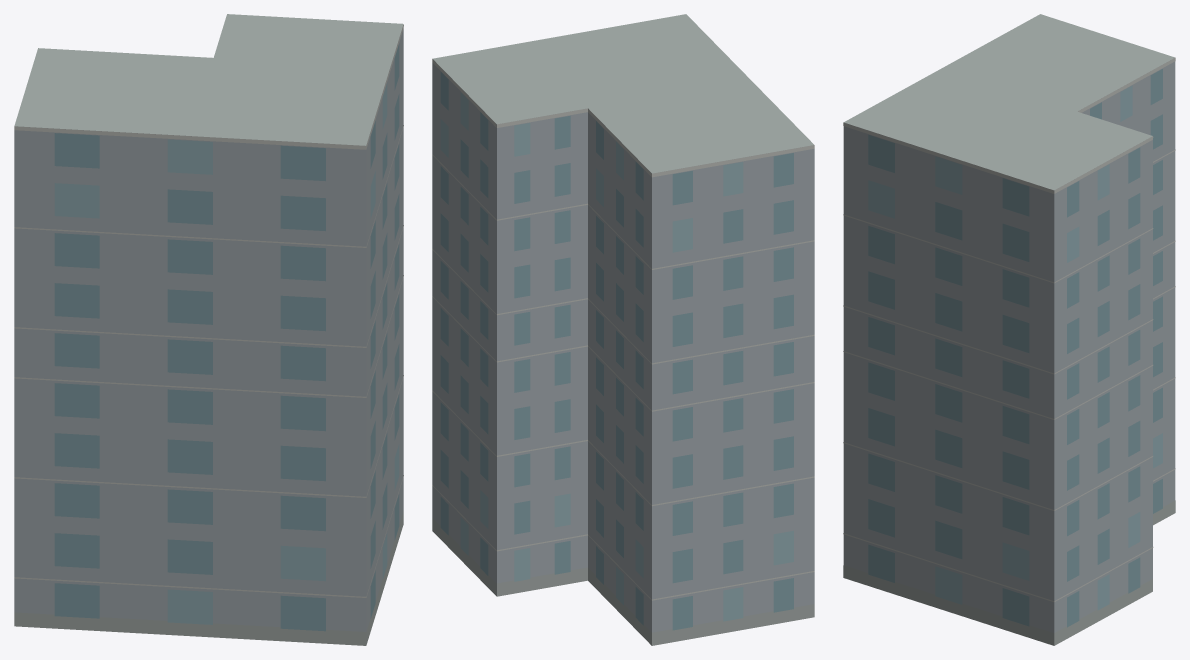
The model's file is survey-upis-32905446.glb.
3 views of the same model, side by side, from view 1: azimuth 30°, elevation 25°; view 2: azimuth 150°, elevation 25°; view 3: azimuth 270°, elevation 25° (orthographic). The views are drawn at different scales.
Visible parts, largest first — view 1: survey-upis-32905446.tmp; view 2: survey-upis-32905446.tmp; view 3: survey-upis-32905446.tmp.
Boxes of the visible parts, x1,y1,x2,y2 form: survey-upis-32905446.tmp: [14, 14, 403, 645]; survey-upis-32905446.tmp: [432, 14, 814, 645]; survey-upis-32905446.tmp: [843, 14, 1175, 645].
Size of the model in its own units: 25.36 by 30.5 by 20.17.
